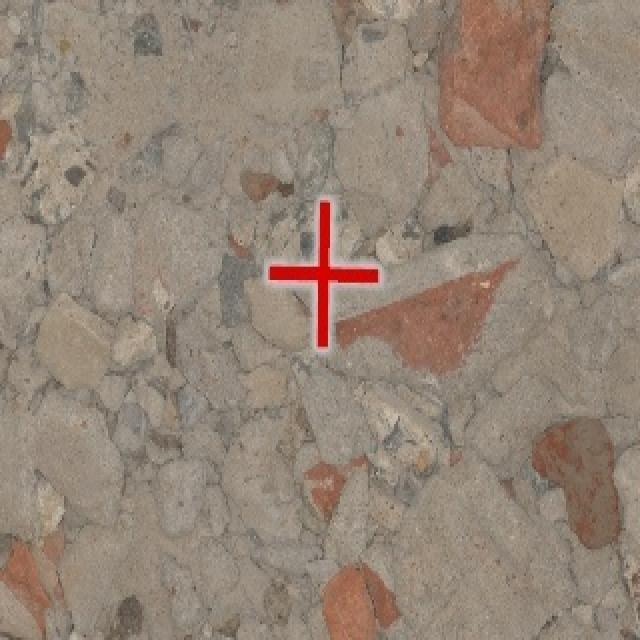x_marker: (267, 199, 379, 348)
